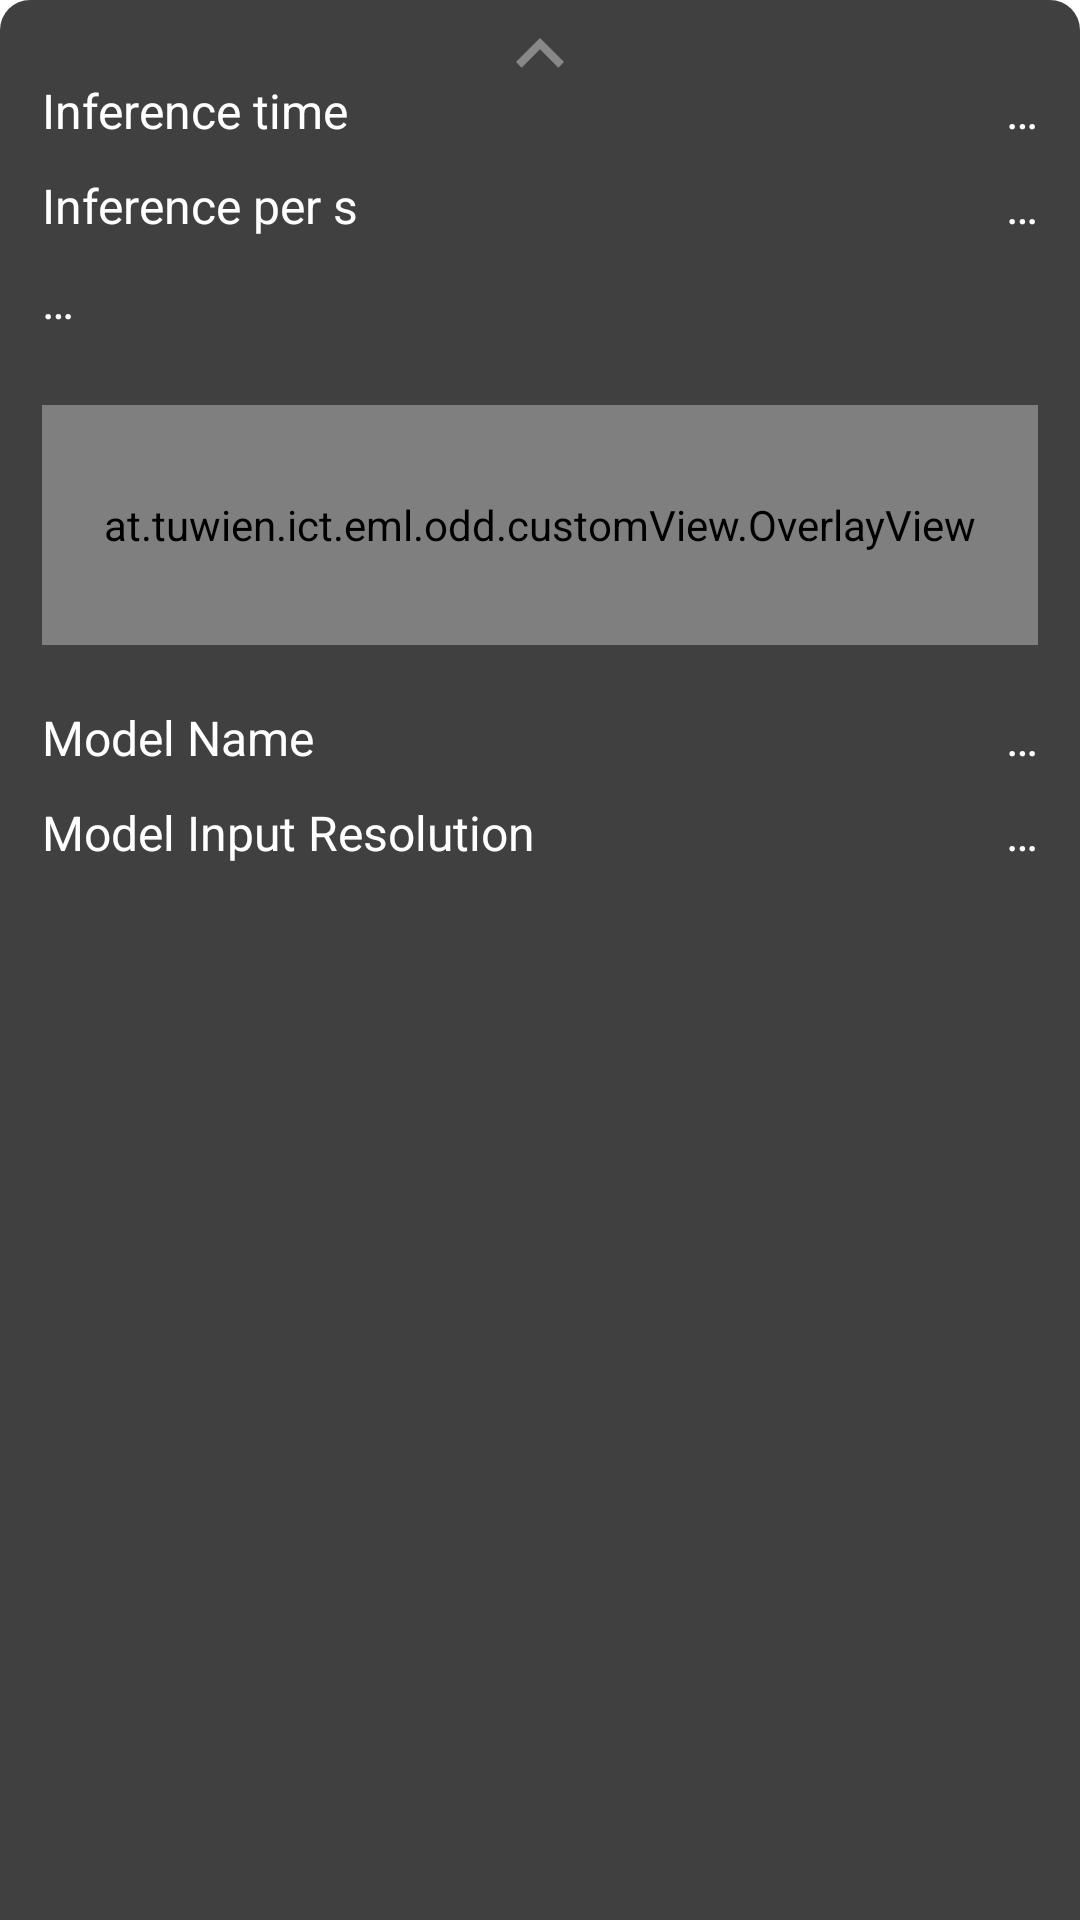

Named icons in this screenshot (1080*1920) and their centers, point (x, y):
keyboard arrow up: point (540, 53)
